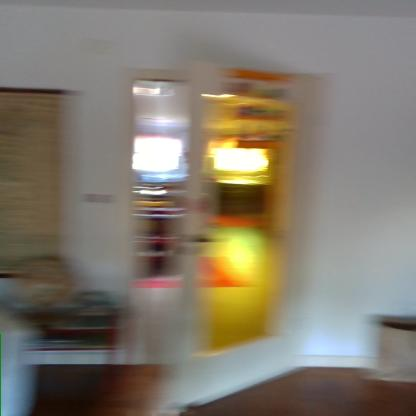semi: (121, 60, 308, 416)
